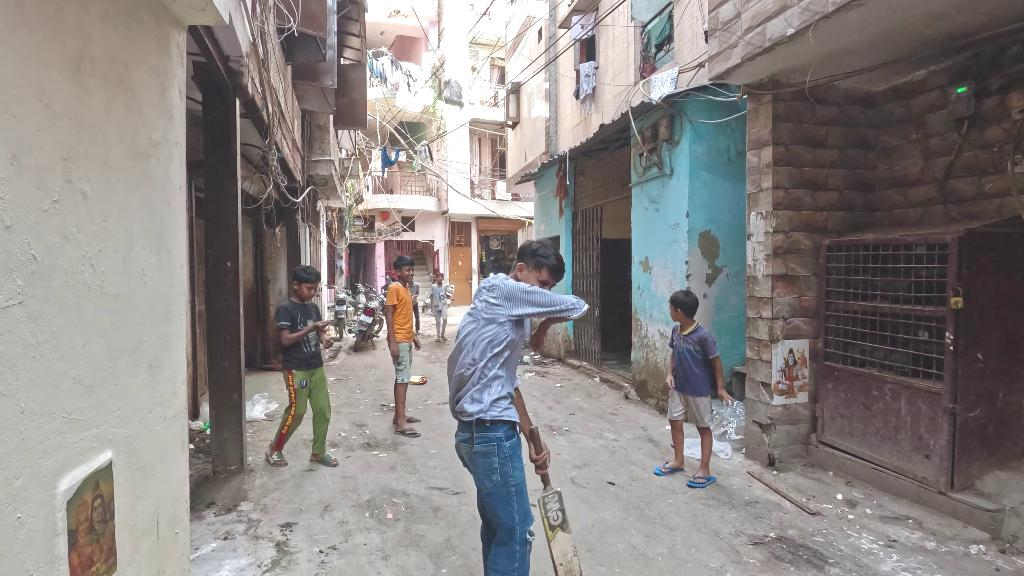garbage: (247, 392, 280, 431), (517, 352, 547, 365), (409, 373, 429, 385)
